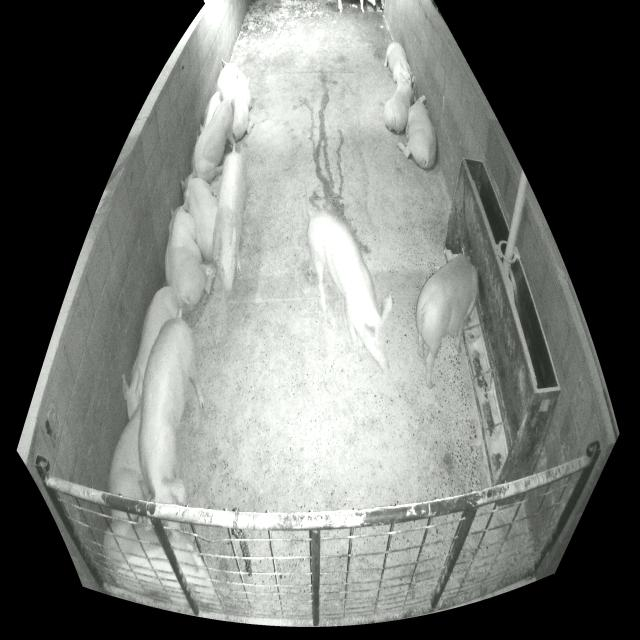pig: (307, 211, 392, 369), (138, 311, 204, 505), (103, 519, 215, 609), (416, 255, 480, 389), (121, 287, 179, 420), (213, 143, 248, 290), (164, 200, 206, 312), (191, 86, 236, 183), (108, 401, 146, 500), (180, 167, 218, 260), (216, 60, 254, 142), (397, 95, 436, 169), (385, 75, 415, 134), (384, 42, 411, 86), (200, 92, 220, 133)
